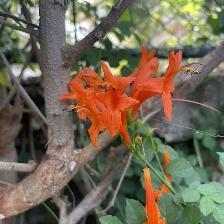honeysuckle: (64, 77, 143, 146), (137, 49, 182, 117)
